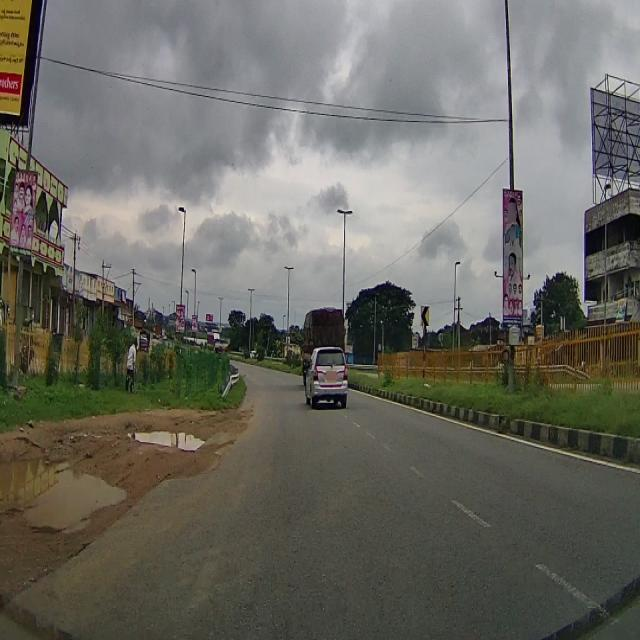car ahead at: (305, 343, 351, 402)
